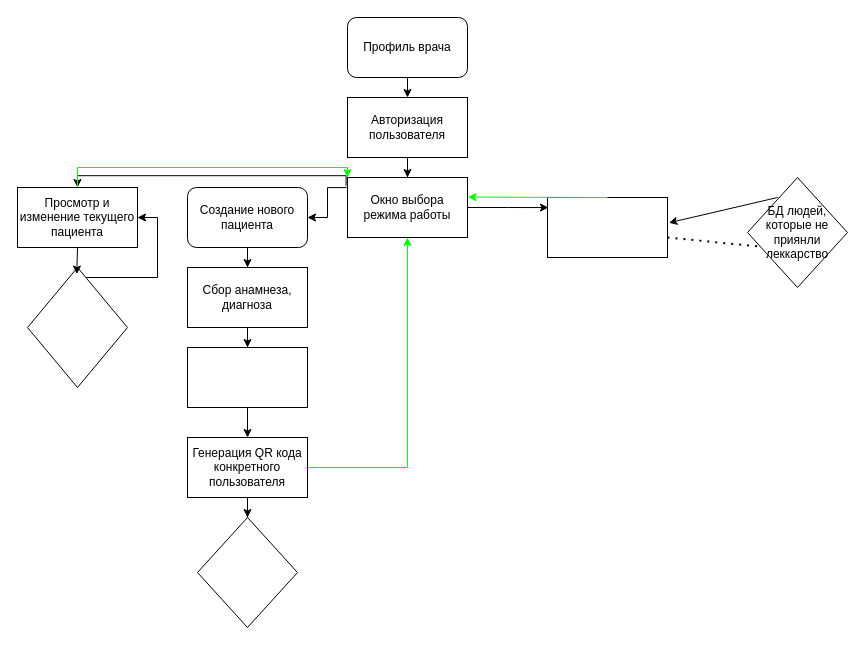
The diagram is 865 pixels wide and 645 high, and some of its shapes have lost their labels. Here are the shapes that lost their labels. From the top down, the centre of each, then its label:
(607,227): Просмотр людей, пропустивих прием лекарств
(77,327): Просмотр и изменение в главной БД
(247,377): Создание окна записи лекарств
(247,572): Отправка в главную БД
